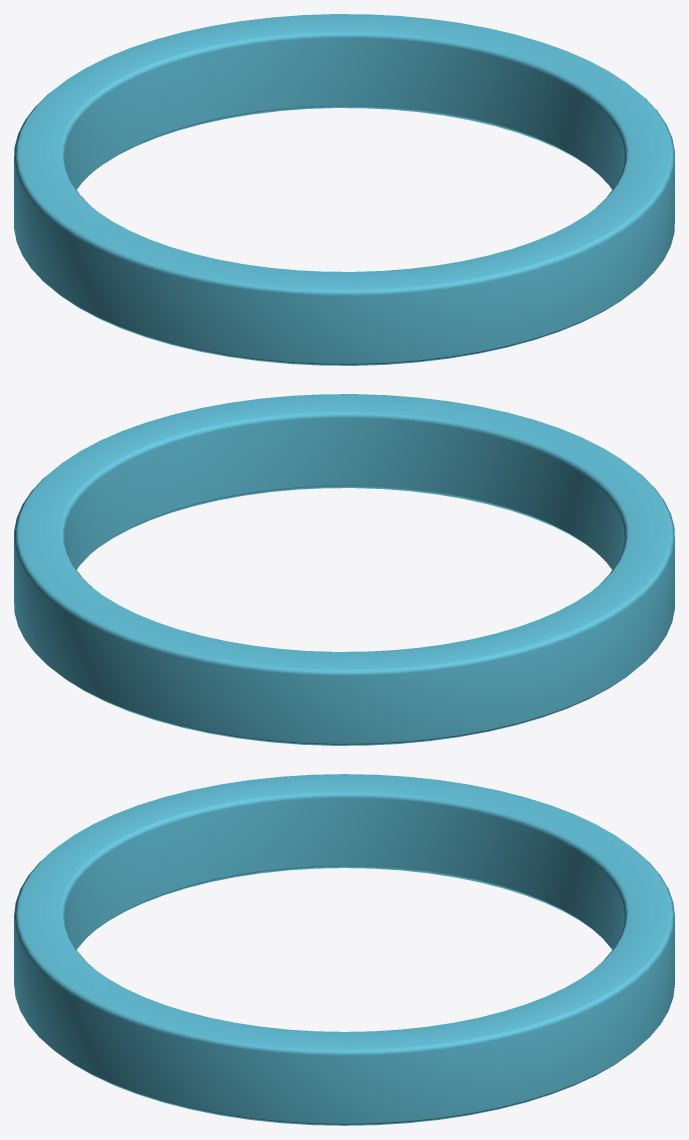
The picture shows the model from 3 angles, top to bottom: view 1: azimuth 30°, elevation 25°; view 2: azimuth 150°, elevation 25°; view 3: azimuth 270°, elevation 25°; orthographic projection.
Visible parts, largest first — view 1: seal_body; view 2: seal_body; view 3: seal_body.
Boxes of the visible parts, x1,y1,x2,y2 form: seal_body: [14, 14, 674, 365]; seal_body: [14, 394, 674, 745]; seal_body: [14, 774, 674, 1125].
Size of the model in its own units: 0.1238 by 0.0159 by 0.1238.
